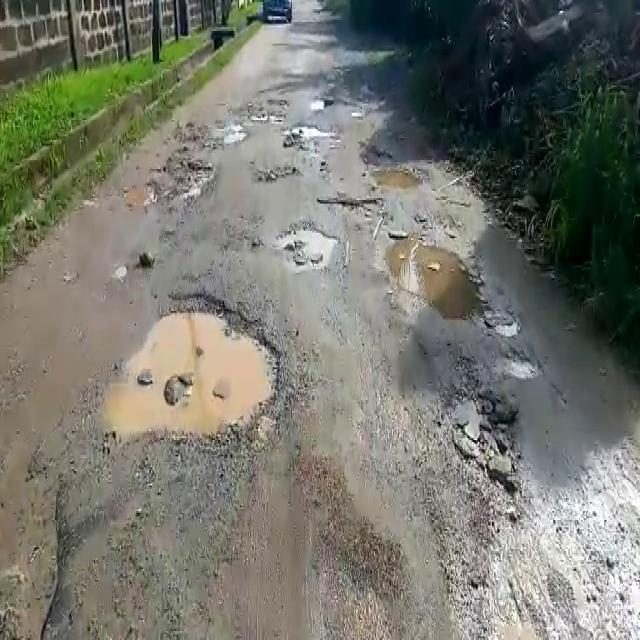pothole: (92, 292, 291, 446), (380, 232, 490, 330), (122, 154, 216, 212), (357, 138, 426, 193), (279, 222, 343, 267), (317, 193, 389, 216), (281, 120, 340, 144), (500, 349, 543, 380), (253, 162, 304, 185)
